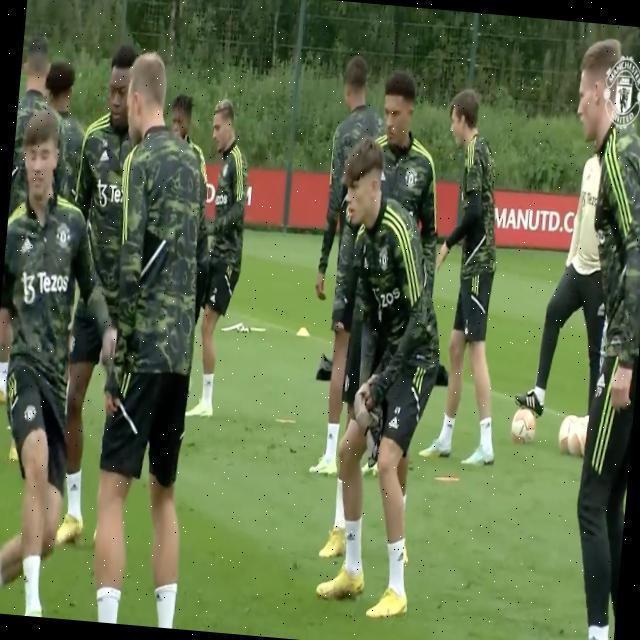Adidas: (20, 234, 34, 255), (396, 547, 406, 566), (596, 371, 607, 388), (388, 415, 400, 430), (70, 480, 80, 495), (346, 529, 356, 543)
